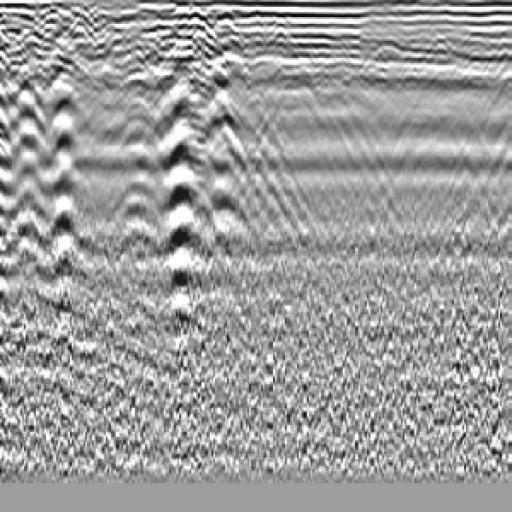metalic: (110, 54, 167, 268)
